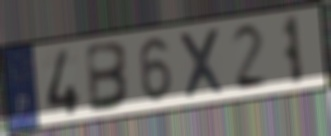1: (281, 12, 306, 89)
2: (227, 23, 269, 93)
4: (45, 46, 82, 118)
6: (137, 35, 175, 105)
B: (85, 39, 133, 116)
X: (176, 25, 227, 101)
